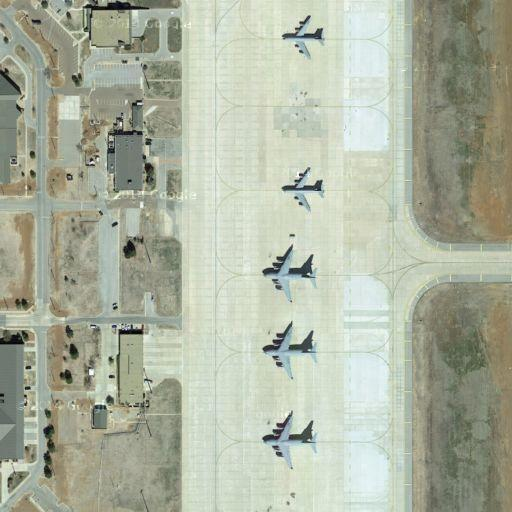C-17: (255, 409, 320, 472), (258, 320, 323, 381), (260, 246, 321, 303)
KC-135: (279, 167, 327, 215), (278, 16, 329, 60)
